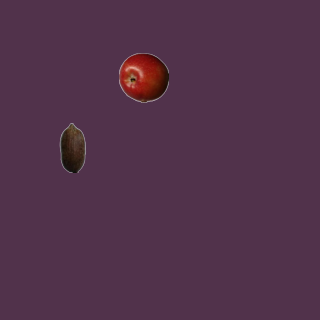Apple Braeburn: (118, 52, 168, 102)
Nut Pecan: (47, 122, 97, 172)
